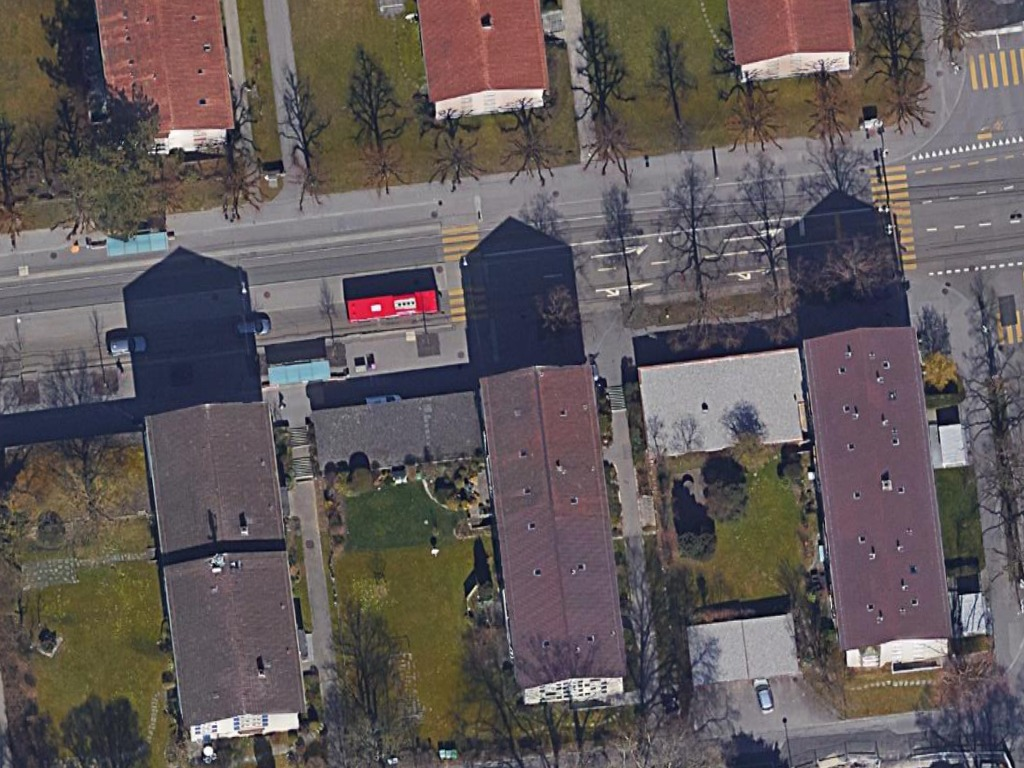bus: (340, 287, 444, 326)
car: (103, 332, 149, 359), (751, 676, 776, 718), (230, 315, 271, 339)
